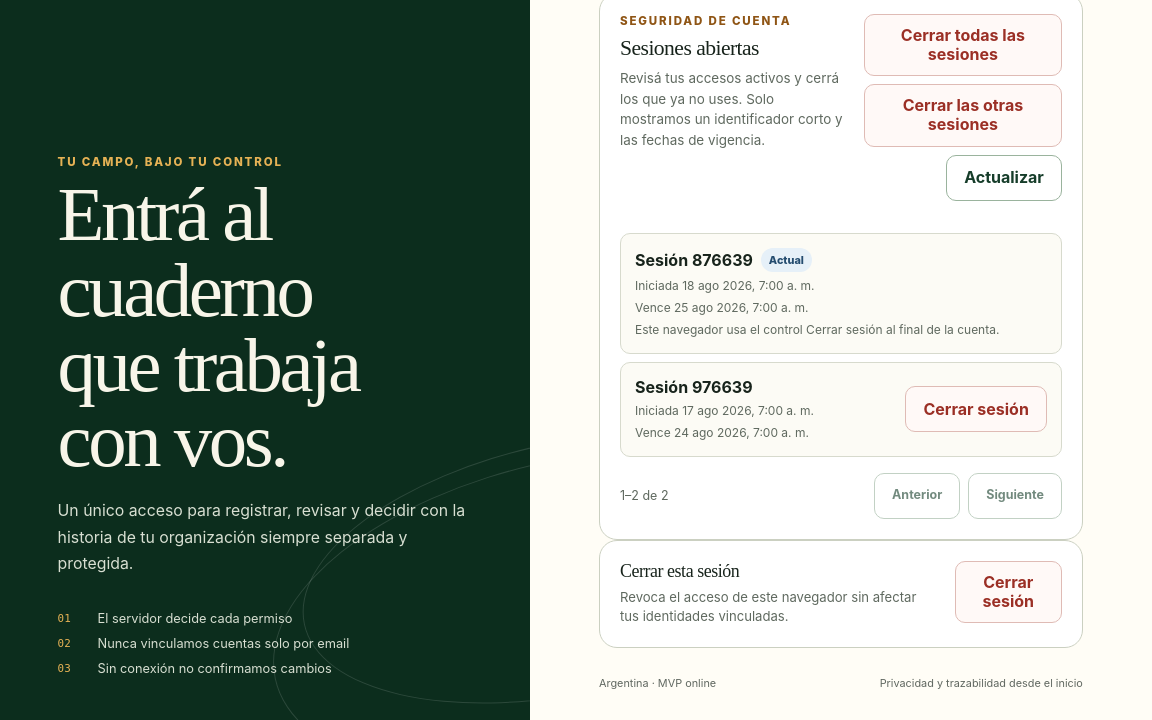
Test: IdentityHub own session management › requests exact manage_sessions assurance and revokes only the confirmed other session
(page scrolled)
Click the button with aria-label "Cerrar sesión 976639" at (976, 409), box x1=905 y1=386 x2=1047 y2=432
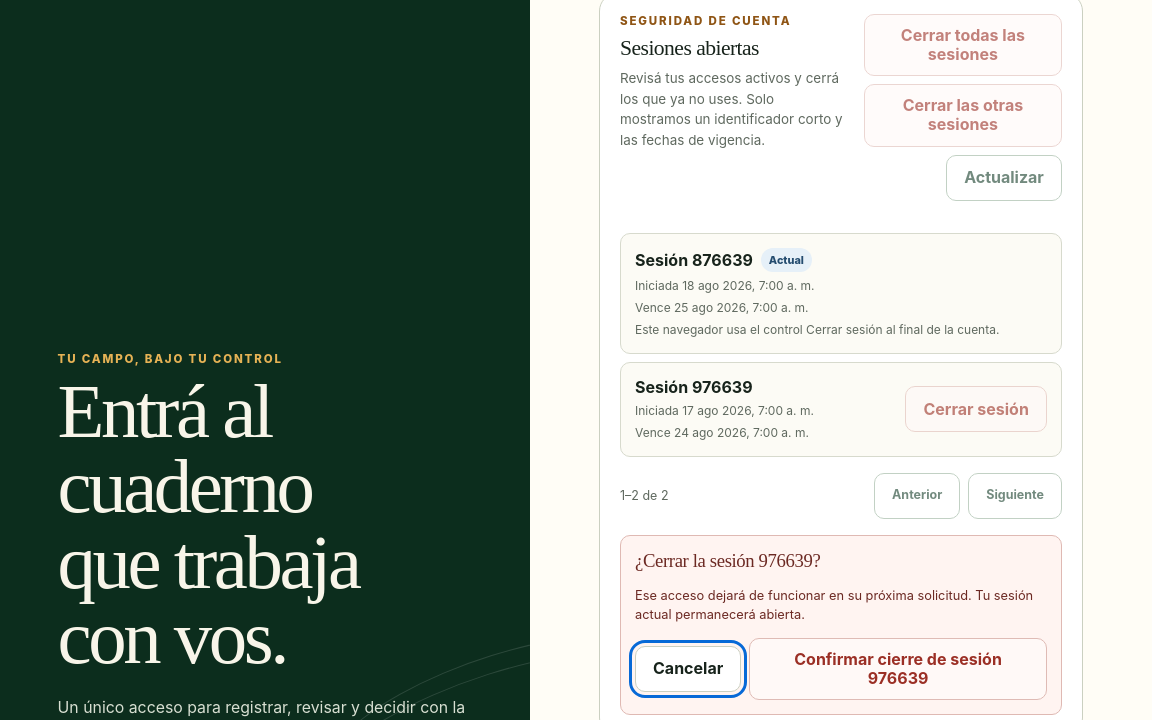
Click the button "Confirmar cierre de sesión 976639" at (898, 669), box x1=749 y1=638 x2=1047 y2=700
(page scrolled)
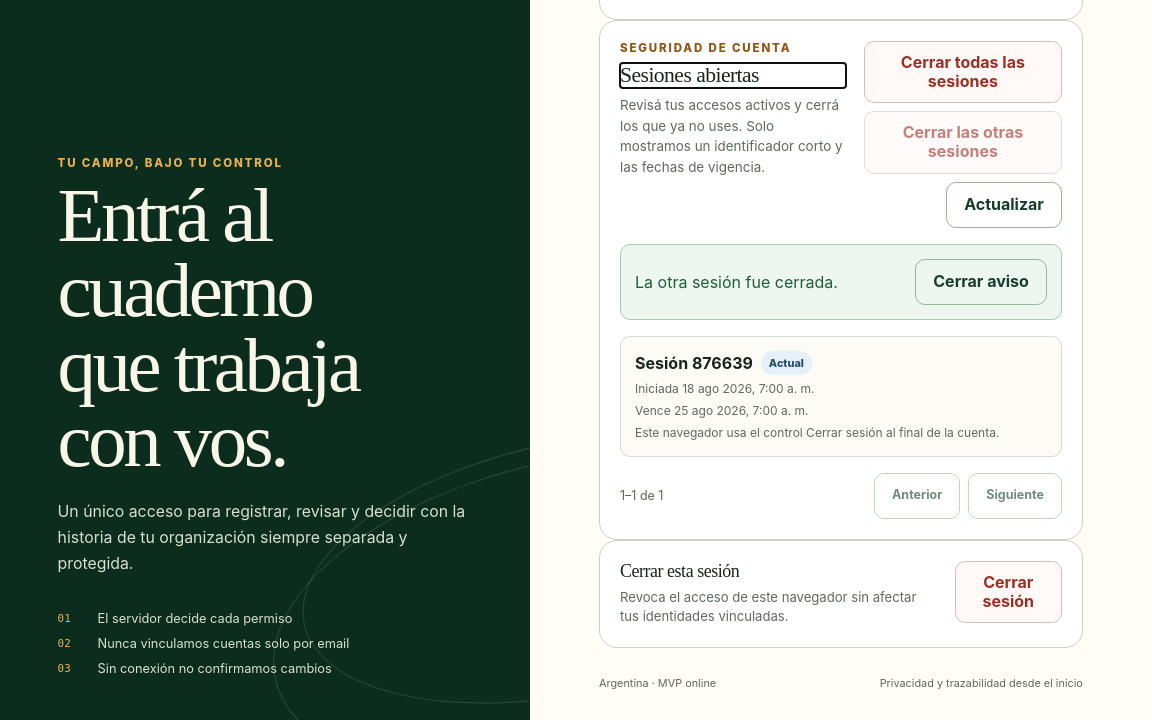
Result: the message shows "La otra sesión fue cerrada" at x1=635 y1=272 x2=838 y2=292
